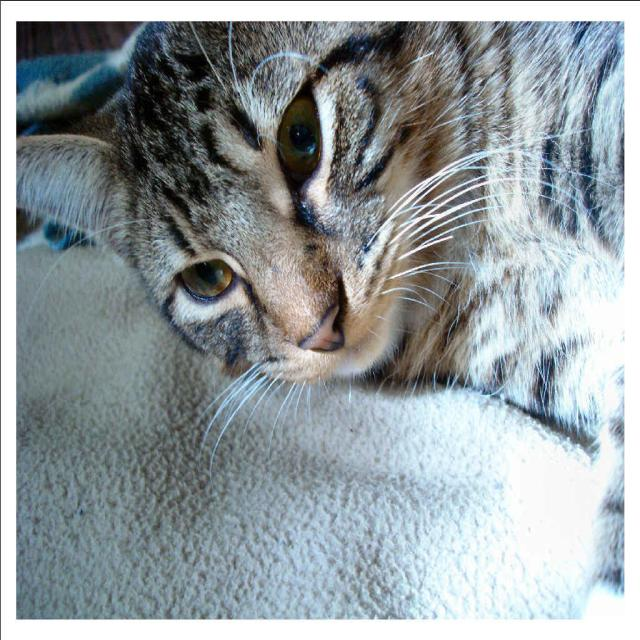Cat: (13, 18, 624, 479)
